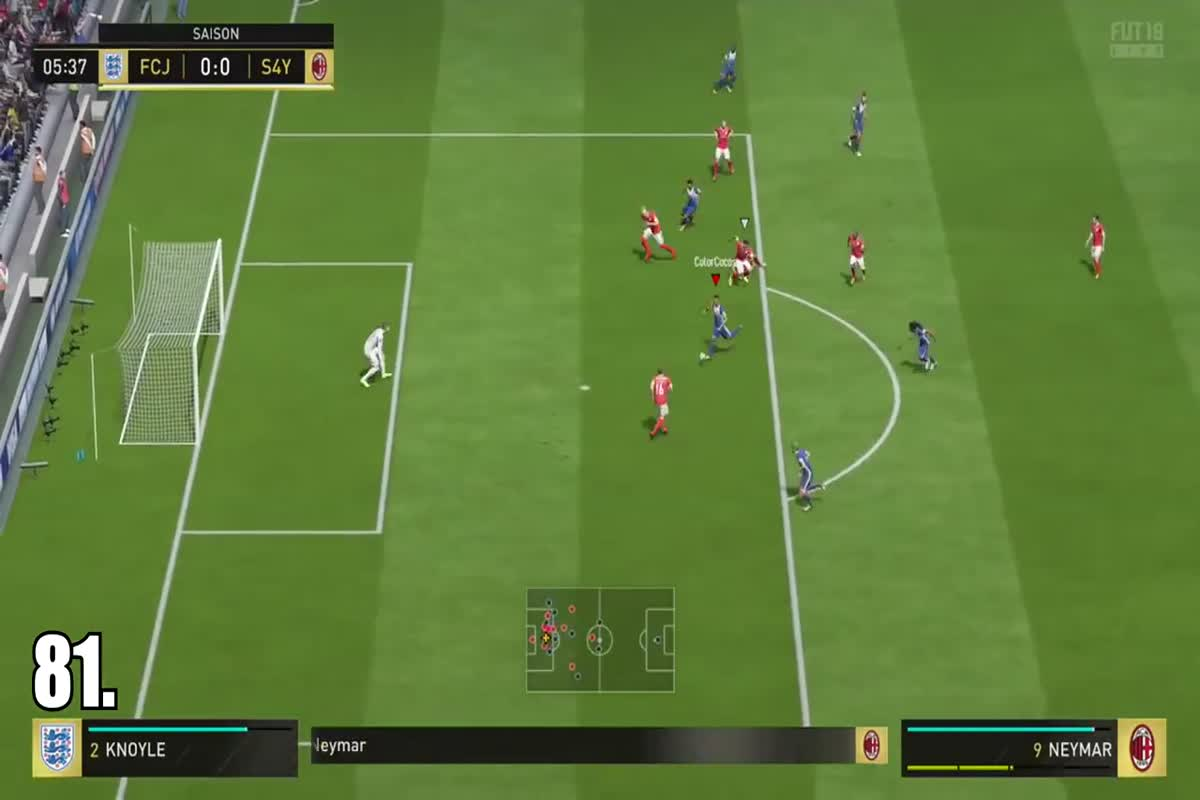ball: (692, 347, 711, 366)
